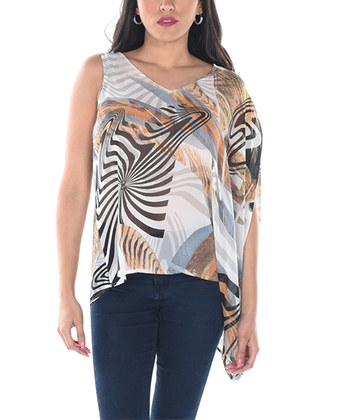C_tank top: (77, 43, 274, 388)
S_W_pants: (81, 273, 229, 420)
